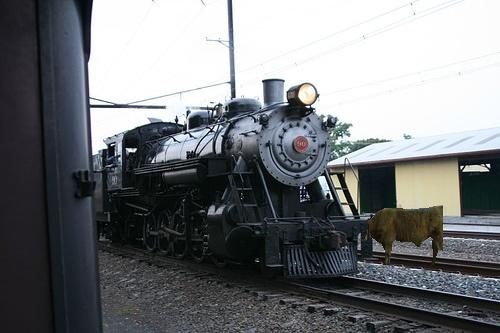tampered: (364, 206, 443, 265)
